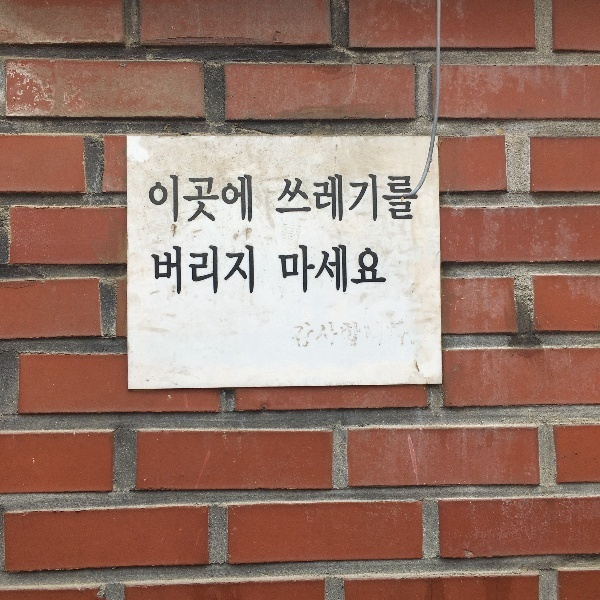text: (161, 244, 176, 298), (177, 244, 192, 298), (193, 244, 208, 298), (209, 244, 224, 298), (225, 244, 240, 298), (241, 244, 256, 298), (161, 174, 176, 227), (177, 174, 192, 227), (193, 174, 208, 227), (209, 174, 224, 227), (225, 174, 240, 227), (289, 243, 304, 295), (305, 243, 320, 295), (321, 243, 336, 295), (337, 243, 352, 295), (353, 243, 368, 295), (369, 243, 384, 295), (289, 173, 304, 223), (305, 173, 320, 223), (321, 173, 336, 223), (337, 173, 352, 223), (353, 173, 368, 223), (369, 173, 384, 223), (385, 173, 400, 223), (401, 173, 416, 223), (147, 174, 160, 227), (241, 174, 253, 227), (276, 243, 288, 295), (149, 244, 160, 298), (305, 319, 320, 350), (321, 319, 336, 350), (337, 319, 352, 350), (353, 319, 368, 350), (369, 319, 384, 350), (385, 319, 400, 350), (401, 319, 416, 350), (292, 319, 304, 350), (283, 173, 288, 223), (385, 243, 389, 295), (417, 173, 421, 223), (417, 319, 418, 350)
